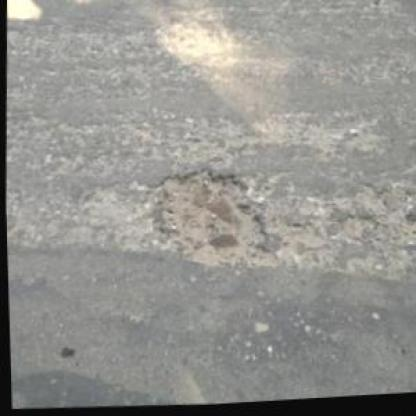pothole: (140, 162, 277, 280), (336, 181, 414, 254)
